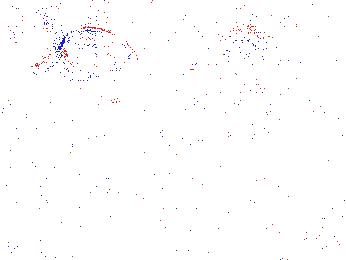moon jellyfish: (108, 1, 208, 72), (215, 28, 292, 111), (60, 27, 141, 104), (283, 1, 346, 82), (6, 14, 59, 73)
